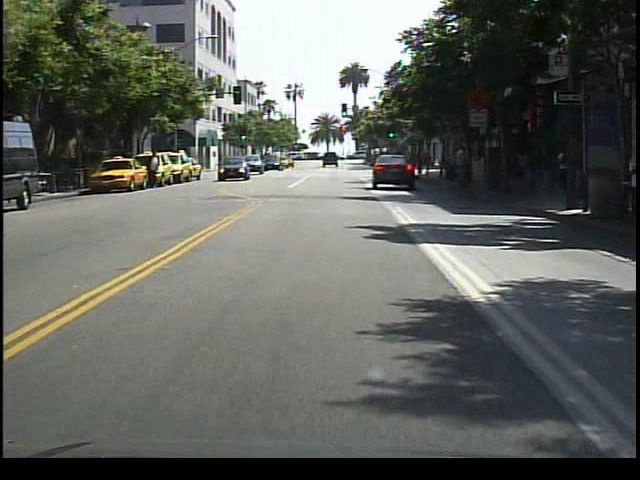person: (451, 140, 472, 197), (147, 148, 164, 192)
